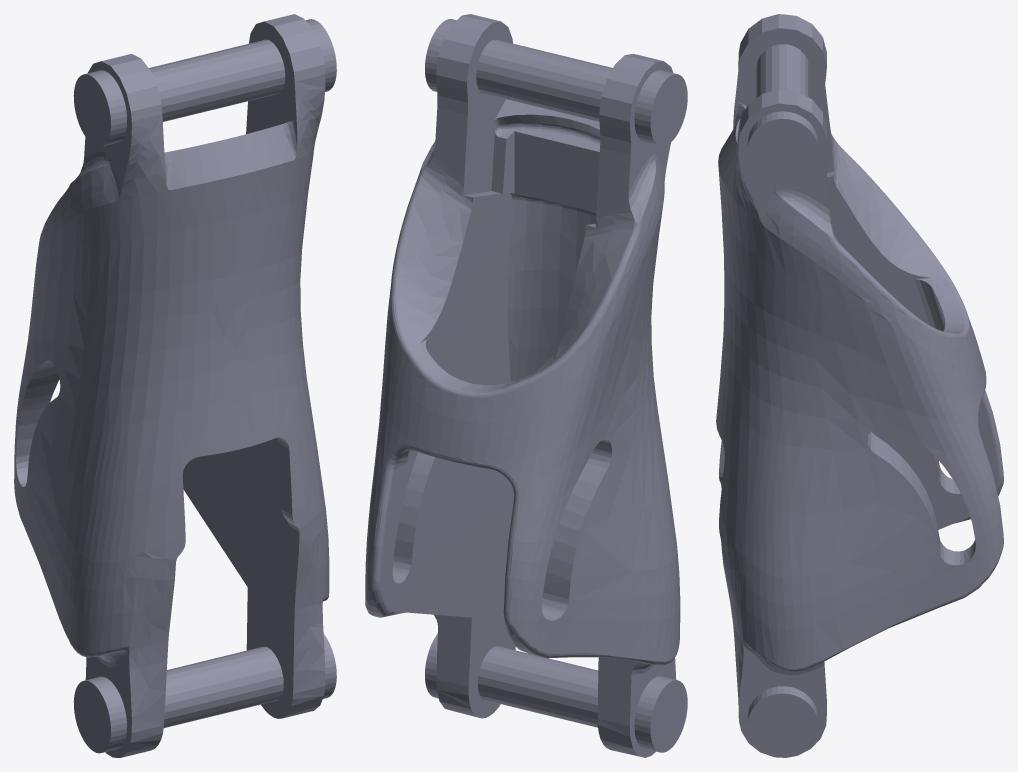
Rendered from hand1_link_4_1_visuals.obj.
3 views of the same model, side by side, from view 1: azimuth 30°, elevation 25°; view 2: azimuth 150°, elevation 25°; view 3: azimuth 270°, elevation 25° (orthographic). The views are drawn at different scales.
Size of the model in its own units: 0.0151 by 0.0409 by 0.0163.
